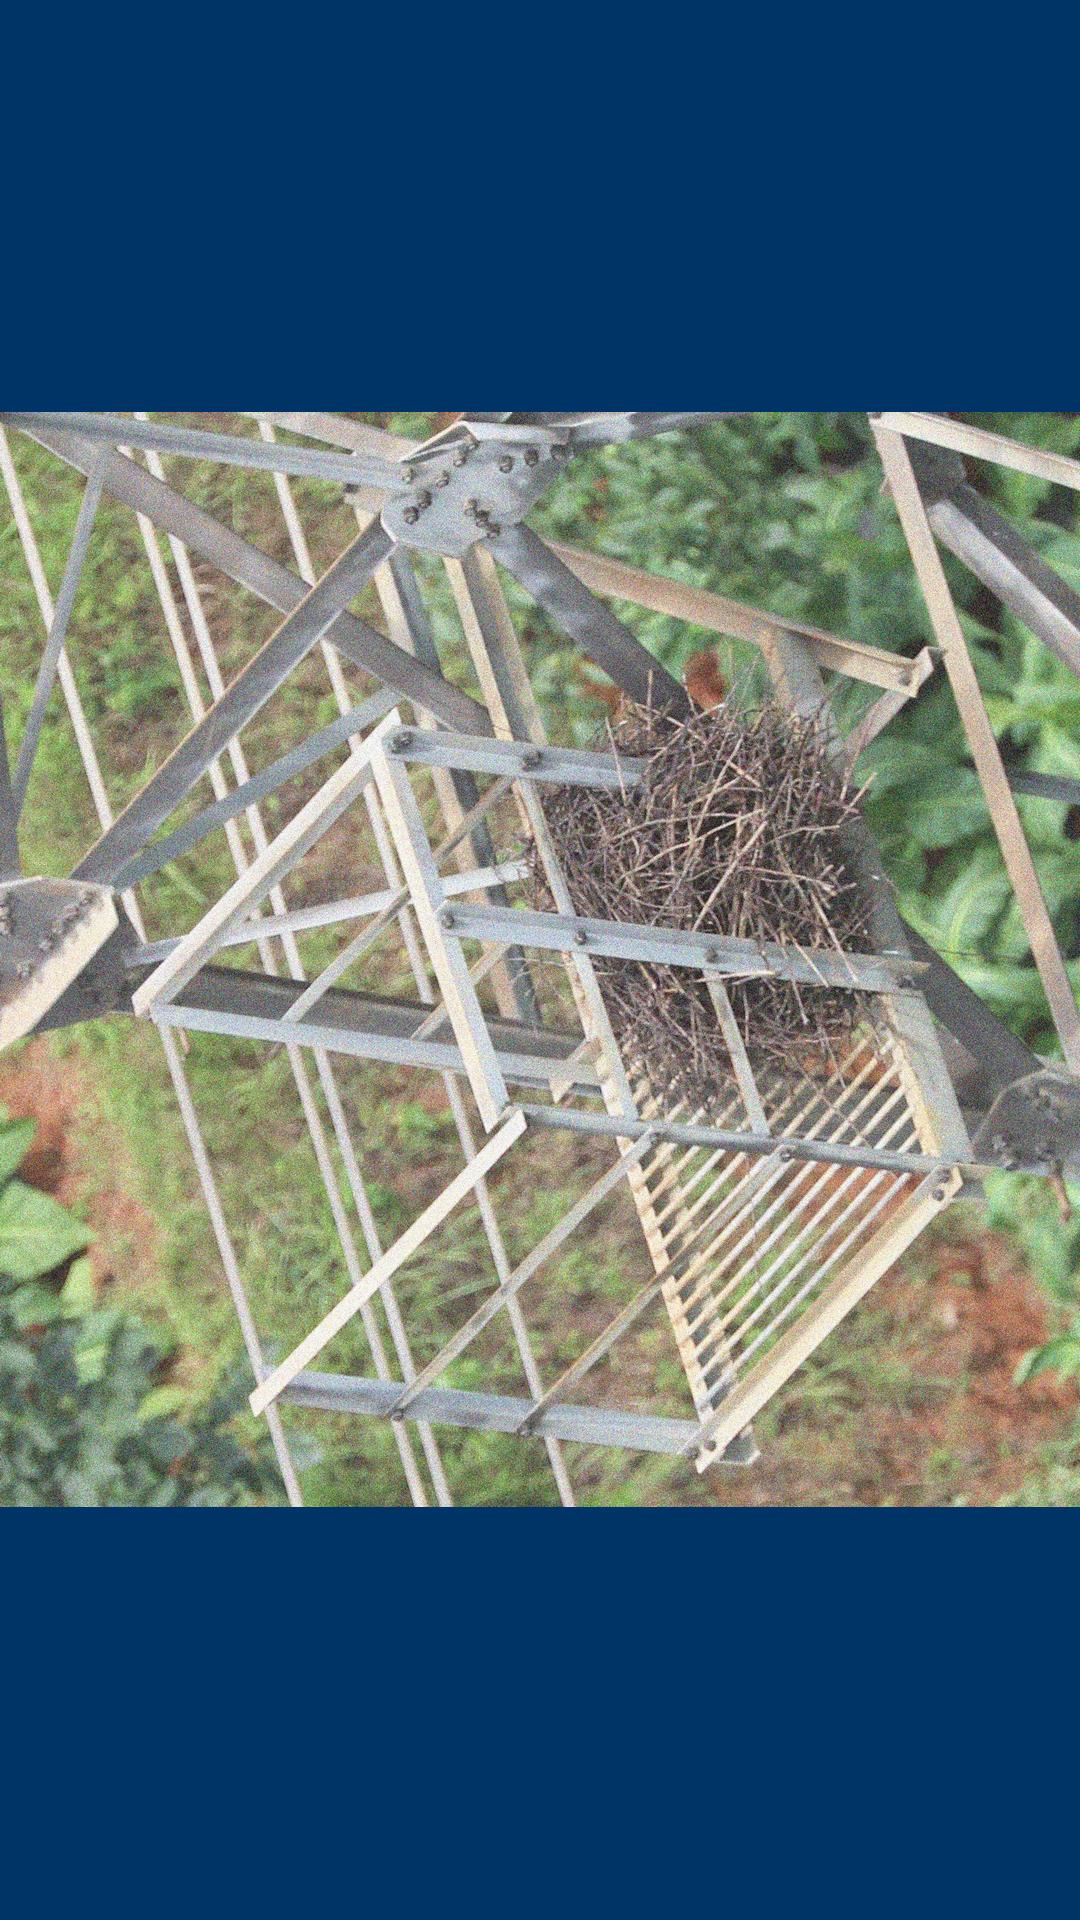niaowo: (517, 690, 938, 1113)
